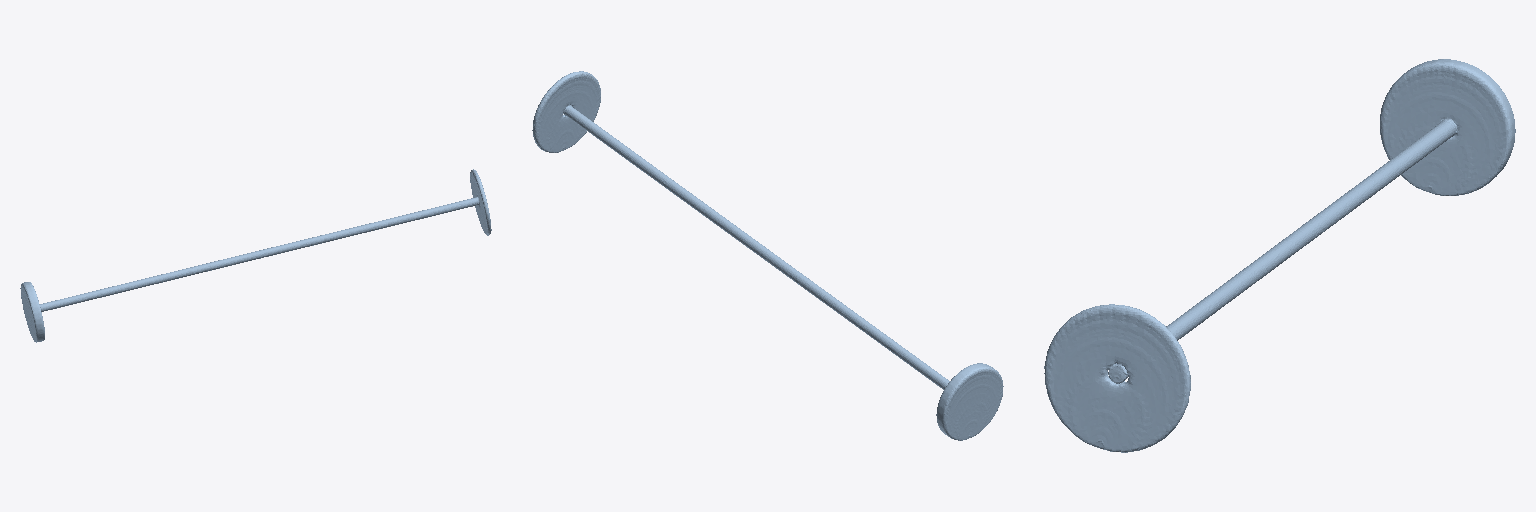
URDF robot description (floorlamp.urdf):
<?xml version="1.0" ?>
<robot name="floorlamp.urdf">
  <dynamics damping="0.5" friction="0.9"/>
  <link name="baseLink">
    <contact>
      <lateral_friction value="0.9"/>
      <rolling_friction value="0.5"/>
      <stiffness value="30000"/>
      <damping value="1000"/>
    </contact>
    <visual>
      <origin rpy="0 0 0" xyz="0 0 0"/>
      <geometry>
        <mesh filename="objects/floorlamp/floorlamp.obj" scale="1.0 1.0 1.0"/>
      </geometry>
       <material name="mat">
        <color rgba="0.7 0.8 0.9 1"/>
      </material>
    </visual>
    <collision>
      <origin rpy="0 0 0" xyz="0 0 0"/>
      <geometry>
	 	<mesh filename="objects/floorlamp/floorlamp.obj" scale="1.0 1.0 1.0"/>
      </geometry>
    </collision>
  </link>
</robot>

--- What the picture shows (computed from the rendered views, not written in the file) ---
3 views of the same robot in one strip: view 1: azimuth 30°, elevation 25°; view 2: azimuth 150°, elevation 25°; view 3: azimuth 270°, elevation 25° (orthographic).
Robot: floorlamp.urdf — 1 links, 0 joints (none); root link baseLink; default pose: every joint at zero.
Visible links, largest first — view 1: baseLink; view 2: baseLink; view 3: baseLink.
Boxes of the visible links, left/top/right/bottom form: baseLink: left=20, top=169, right=491, bottom=342; baseLink: left=532, top=71, right=1003, bottom=440; baseLink: left=1044, top=59, right=1515, bottom=452.
Bounding box of the posed robot: 1.72 × 0.7798 × 0.5351 m (x, y, z).
Meshes: 1 distinct files referenced, 1 mesh visuals loaded (1 OBJ).